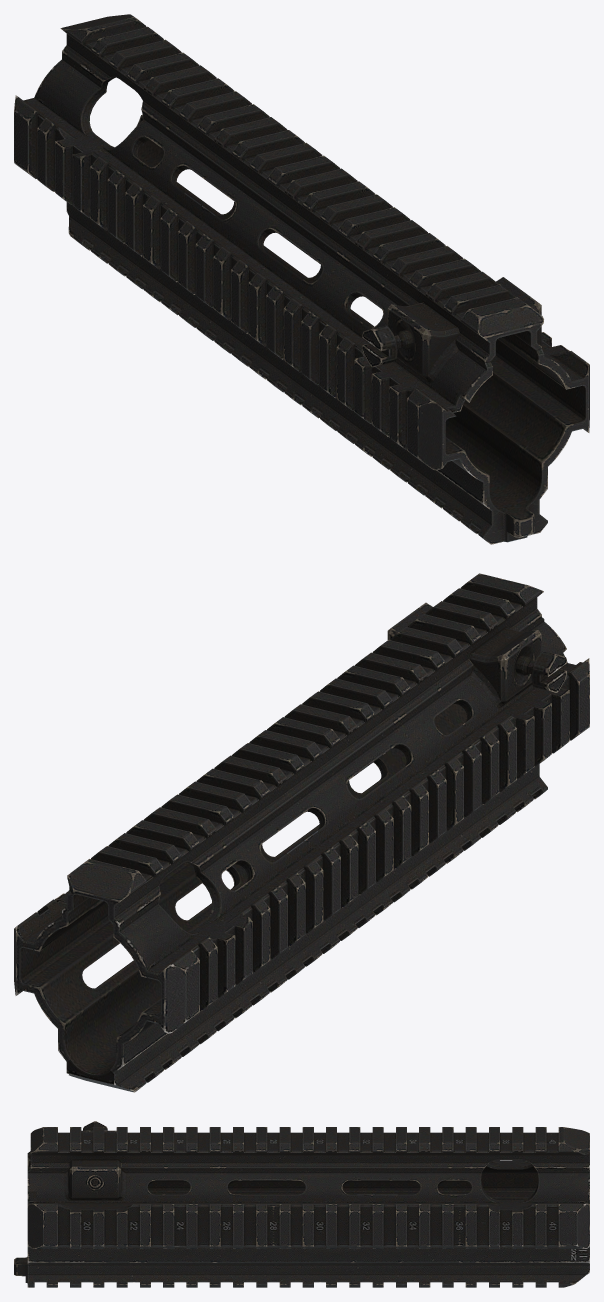
The picture shows the model from 3 angles, top to bottom: view 1: azimuth 30°, elevation 25°; view 2: azimuth 150°, elevation 25°; view 3: azimuth 270°, elevation 25°; orthographic projection. The views are drawn at different scales.
Parts seen in each view (by area): view 1: TW_5bb20de5d4351e0035629e59_PZ_Import; view 2: TW_5bb20de5d4351e0035629e59_PZ_Import; view 3: TW_5bb20de5d4351e0035629e59_PZ_Import.
Part boxes in pixels (x1,y1,x2,y2): TW_5bb20de5d4351e0035629e59_PZ_Import: (14, 14, 589, 544); TW_5bb20de5d4351e0035629e59_PZ_Import: (14, 573, 589, 1092); TW_5bb20de5d4351e0035629e59_PZ_Import: (14, 1121, 589, 1287).
Size of the model in its own units: 0.0339 by 0.1432 by 0.0397.
1 material, 1 textured.
